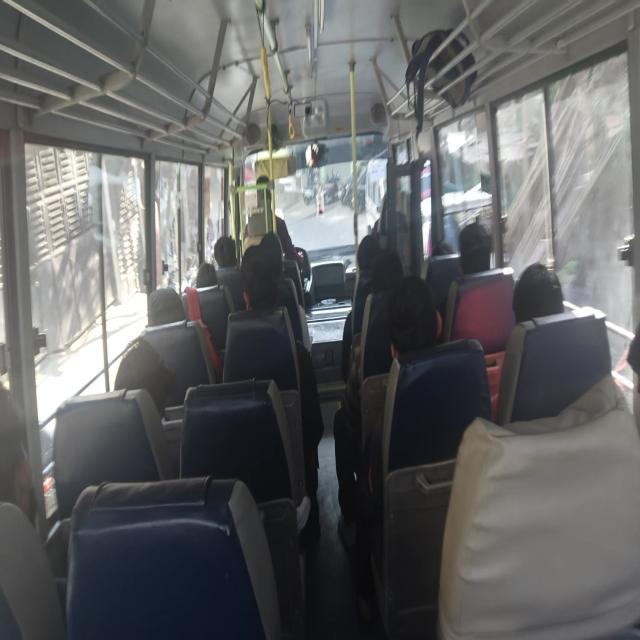person: (337, 274, 442, 624), (225, 238, 324, 537), (494, 262, 565, 422), (243, 175, 304, 274), (341, 234, 382, 380), (441, 222, 492, 339), (114, 336, 176, 420), (387, 274, 442, 360), (512, 261, 564, 325), (458, 221, 492, 275), (147, 286, 186, 326), (214, 235, 238, 268), (196, 261, 218, 287)
